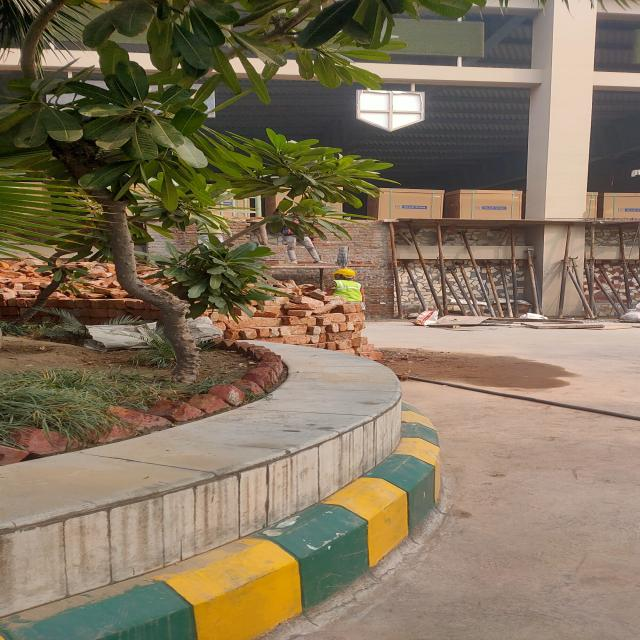safe: (324, 268, 362, 303)
